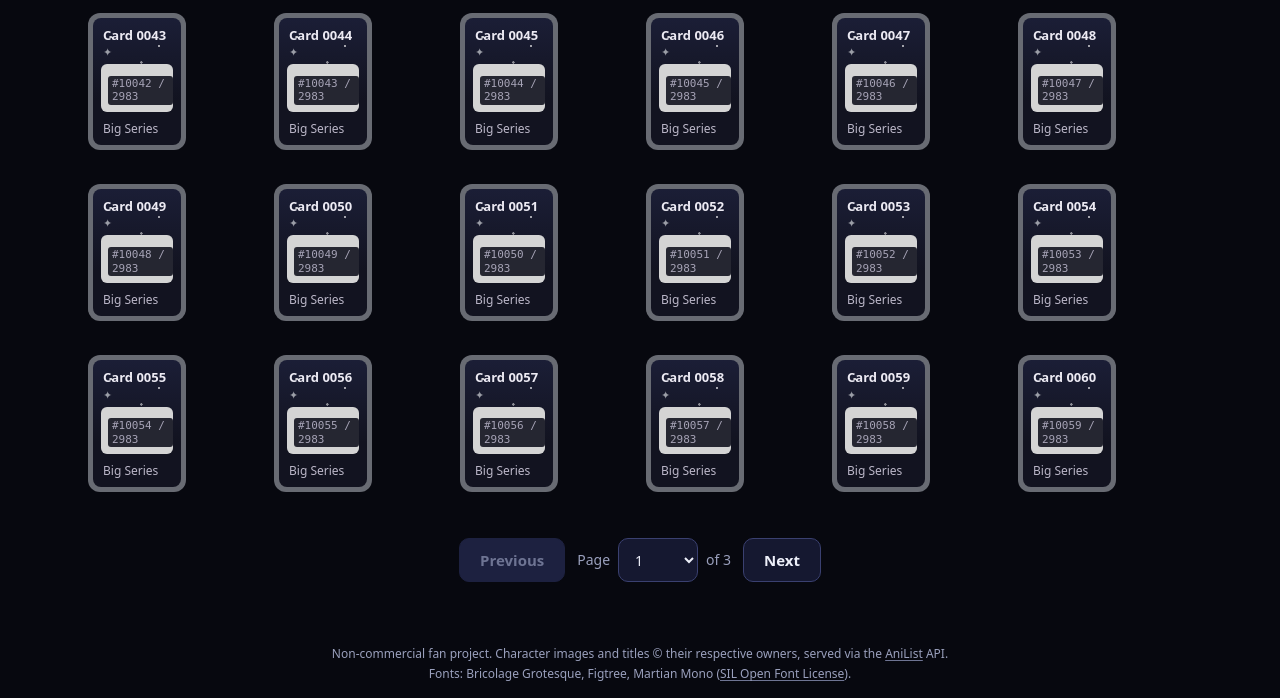
Test: pages (§3.3, §5.3, §5.5) › 60 per page; Previous, the page select and Next; focus to the results line after a change
The width and height of the screenshot is (1280, 698).
(page scrolled)
Expected: the button with aria-label "Previous page" is disabled, [459,538,565,582]
Click the button with aria-label "Next page" at {"x": 782, "y": 560}, box [743,538,821,582]
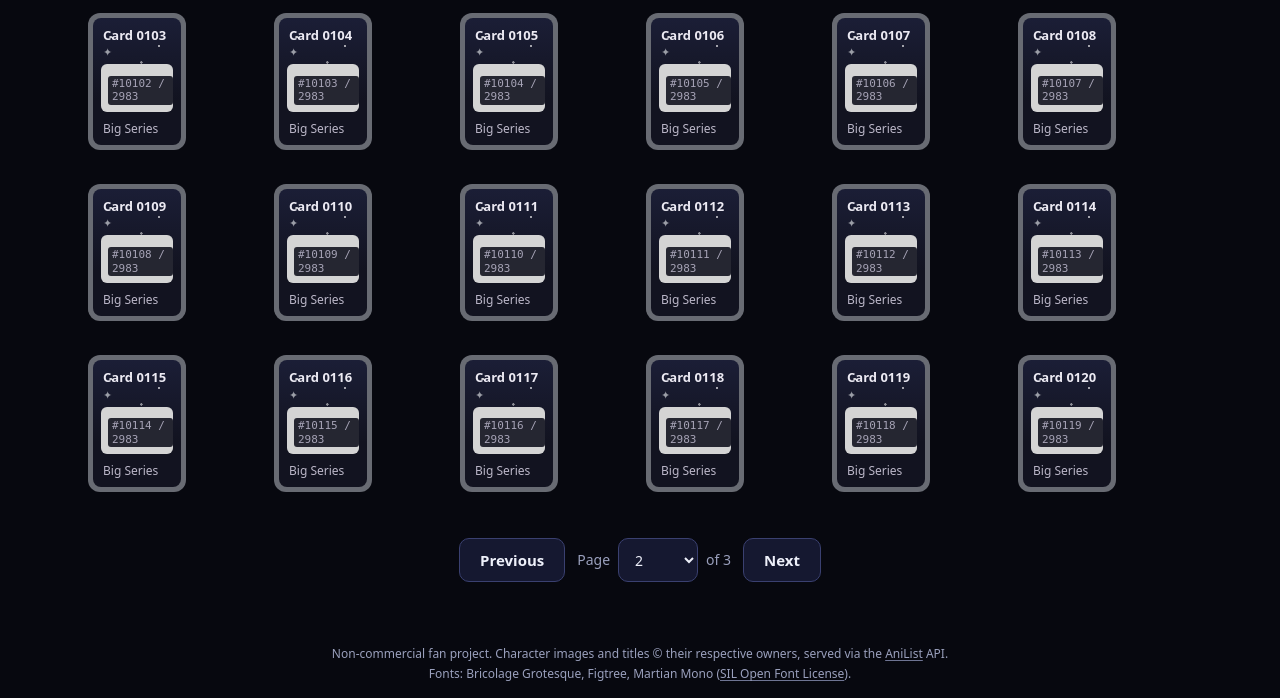
Select "3" in the dropdown labelled "Page" at {"x": 658, "y": 560}, box [618,538,698,582]
(page scrolled)
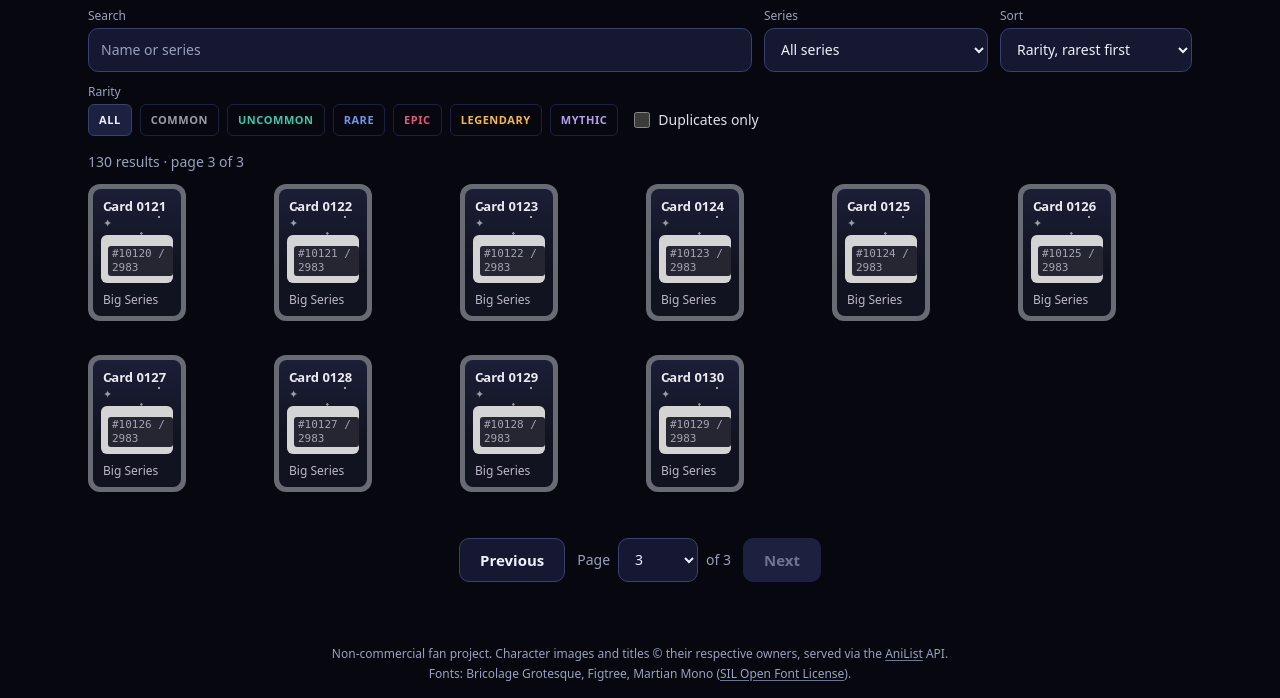
Result: the number of list items is 10
Result: the button with aria-label "Next page" is disabled at [743,538,821,582]
Click the button with aria-label "Previous page" at {"x": 512, "y": 560}, box [459,538,565,582]
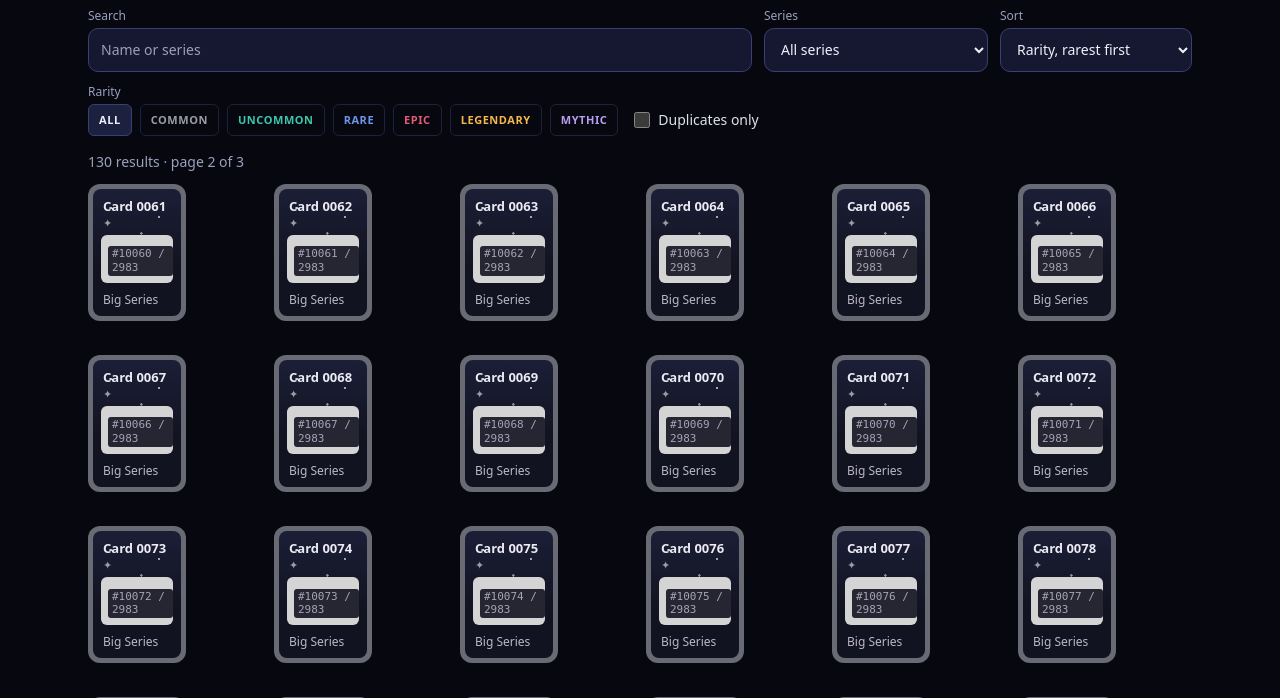
Result: the text "130 results · page 2 of 3" is shown at [88,152,244,171]
# A filter change returns to page 1.
Type "card" into the search field labelled "Search" at {"x": 420, "y": 50}, box [88,28,752,72]
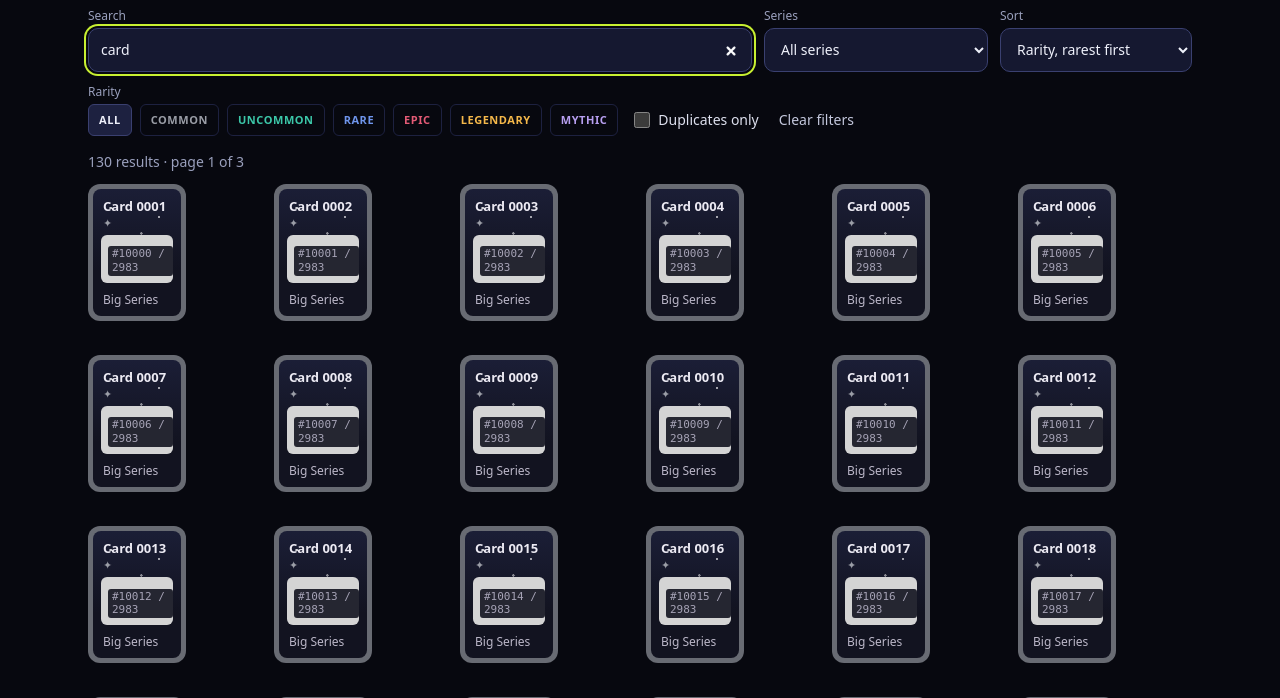
Result: the text "130 results · page 1 of 3" is shown at [88,152,244,171]
